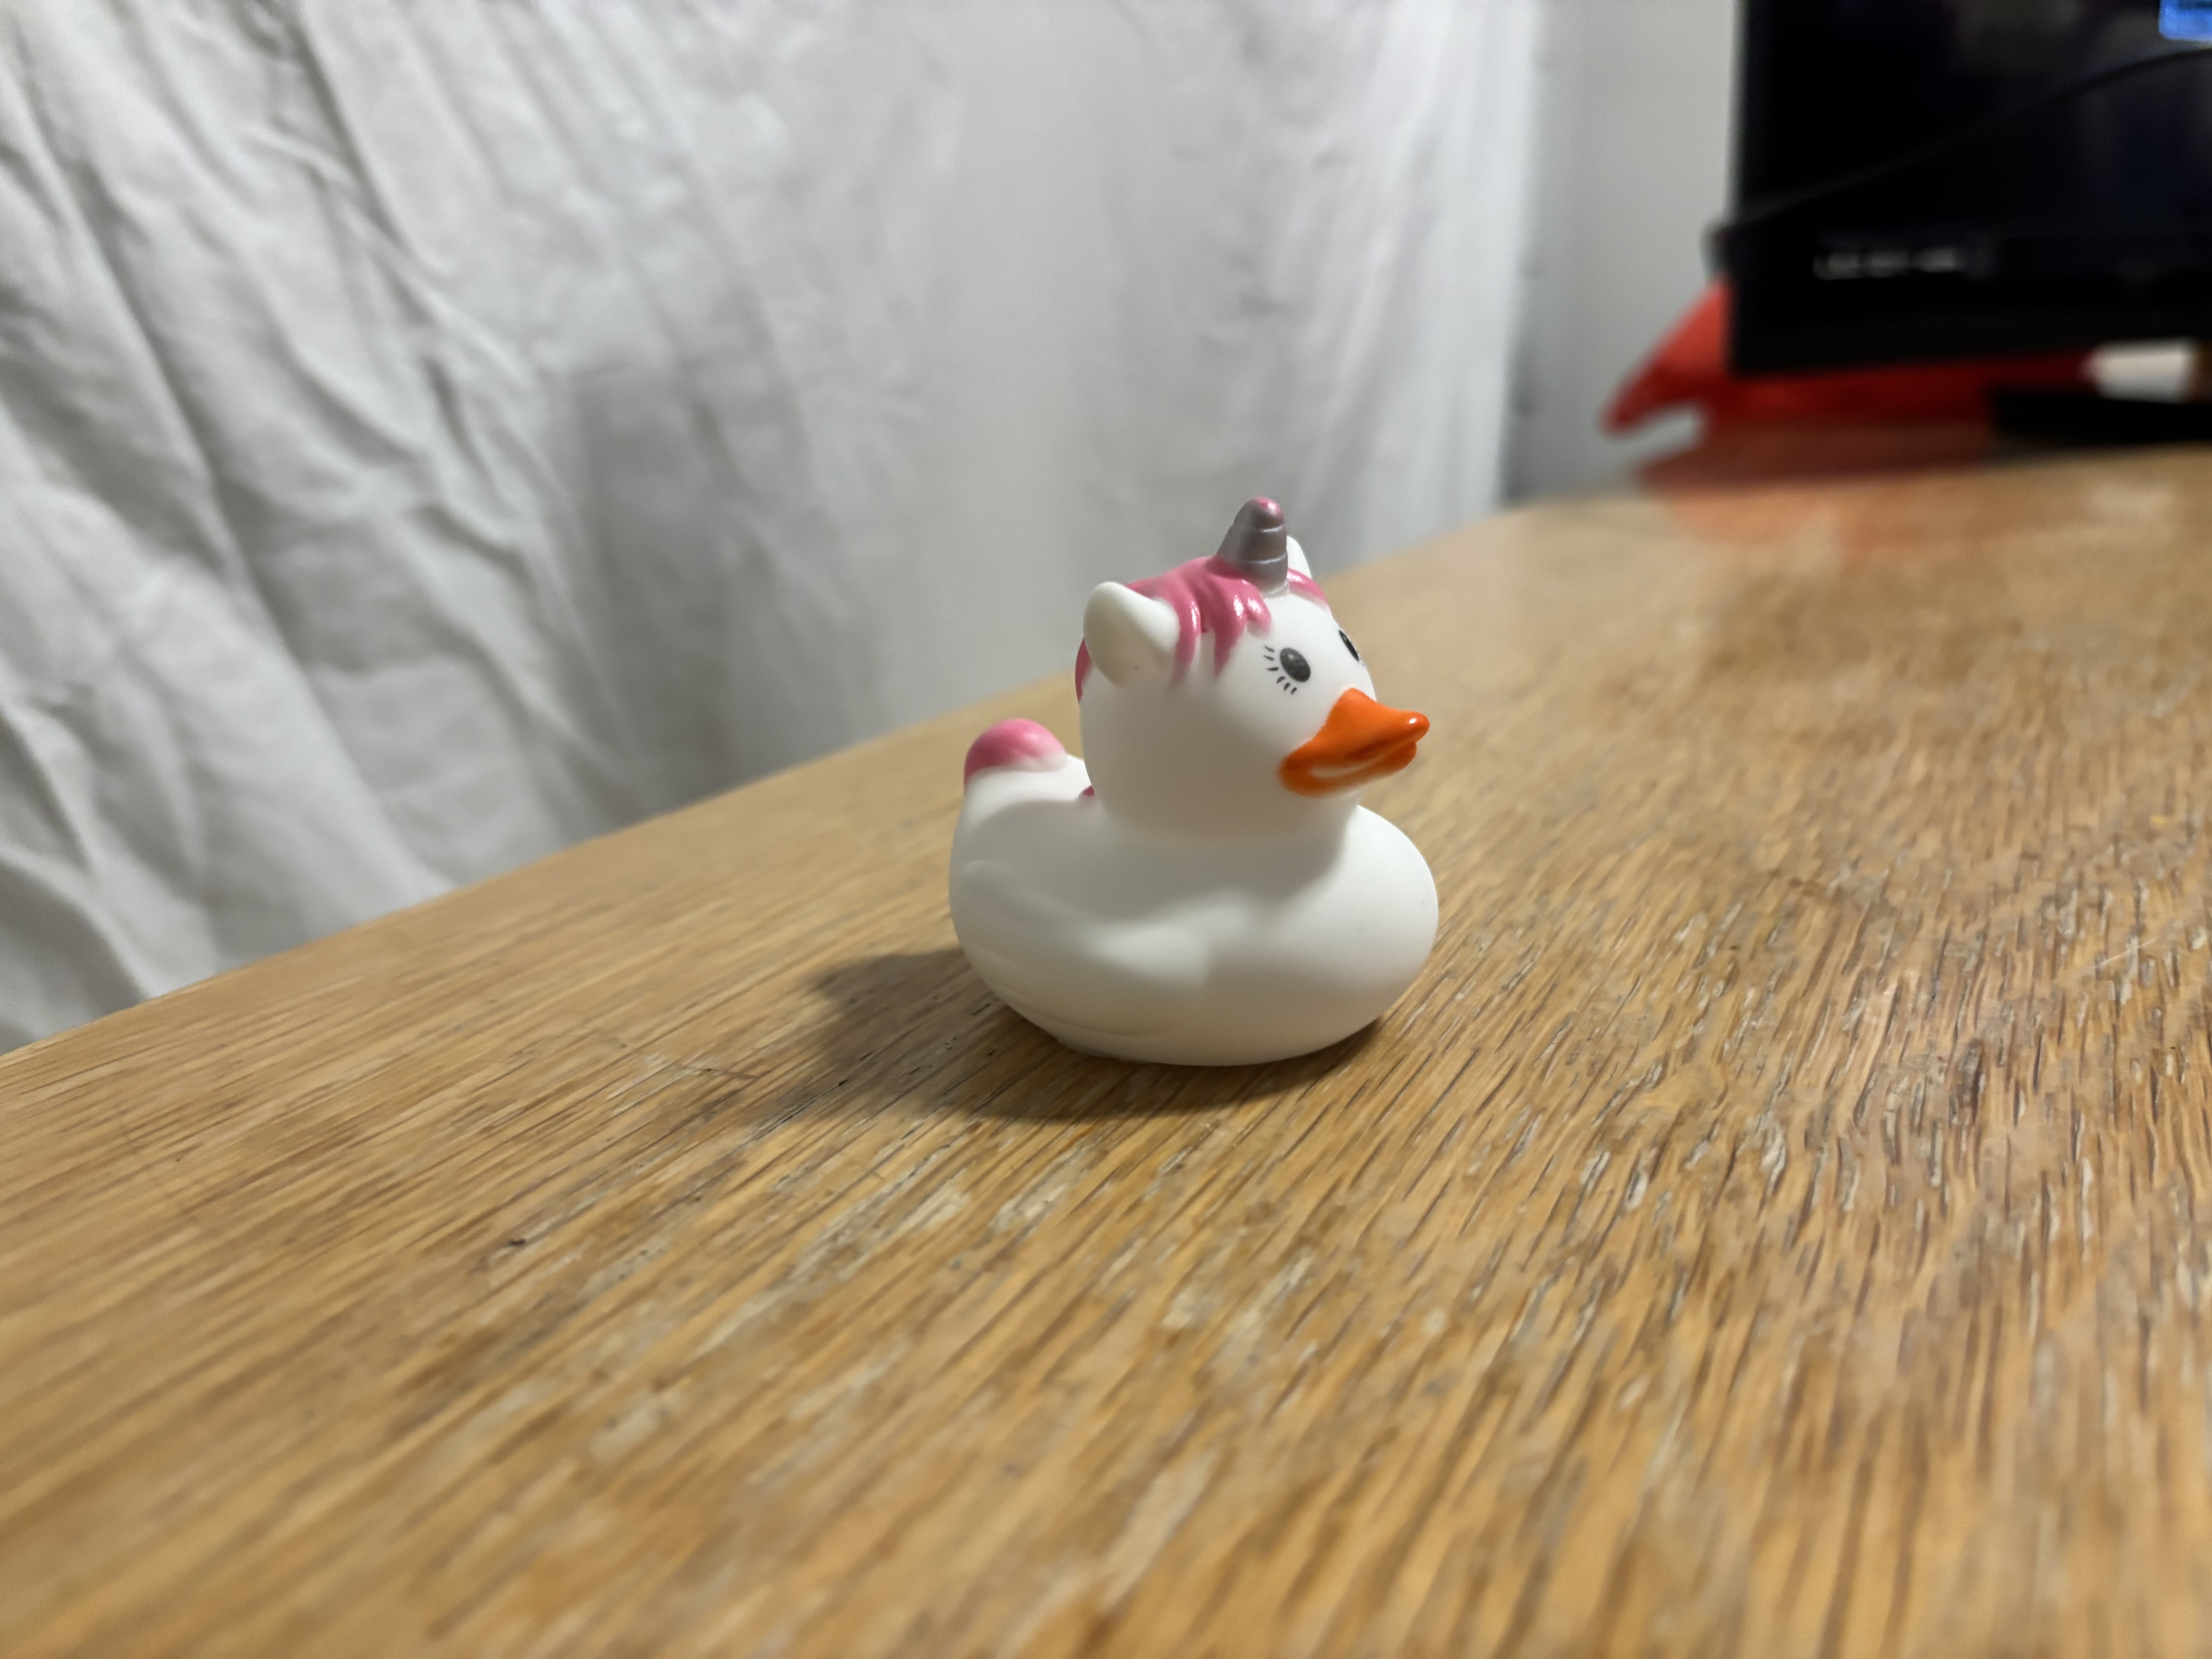Ducks (Specialty): (967, 519, 1460, 1082)
